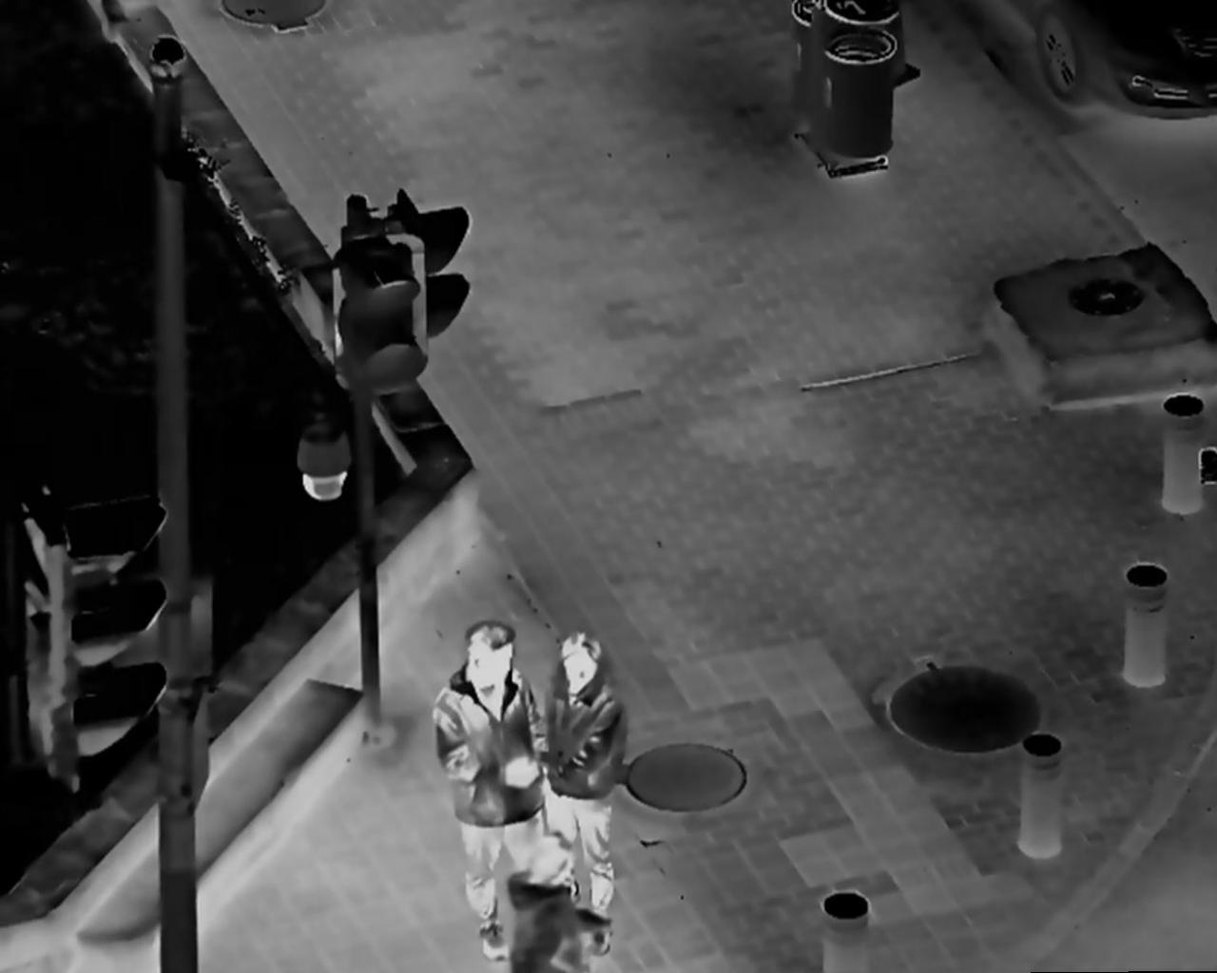person: (418, 616, 554, 956), (539, 628, 626, 957)
